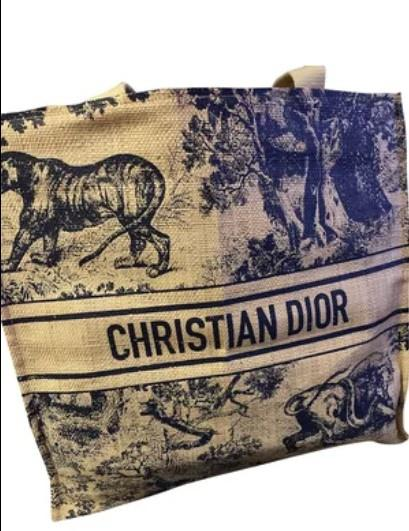DIOR: (99, 277, 360, 364)
